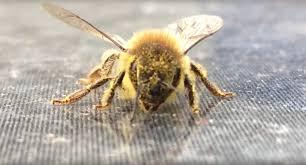Meliponula: (61, 3, 241, 127)
